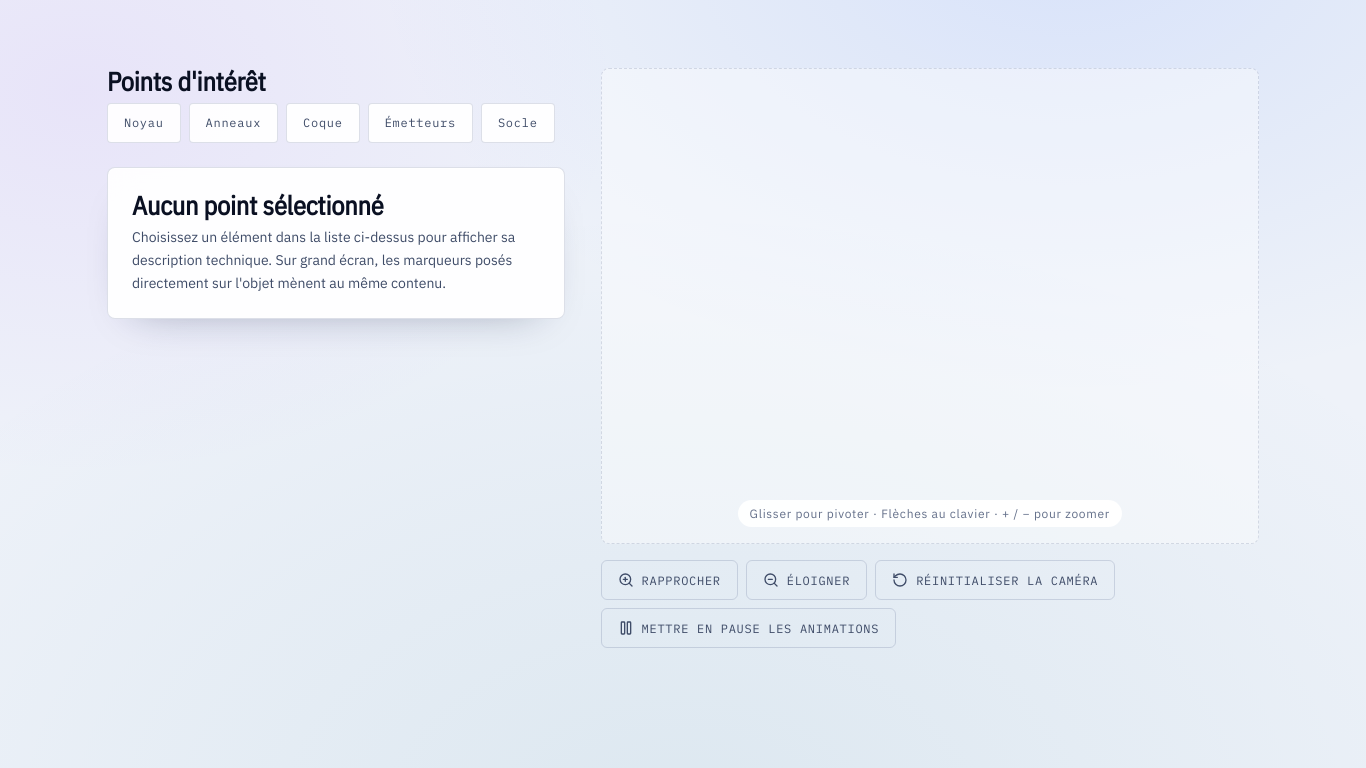
InteractiveSection › met les animations en pause et les reprend
(page scrolled)
Click the button with test id "toggle-animations" at x=748, y=628, box [600,608,896,648]
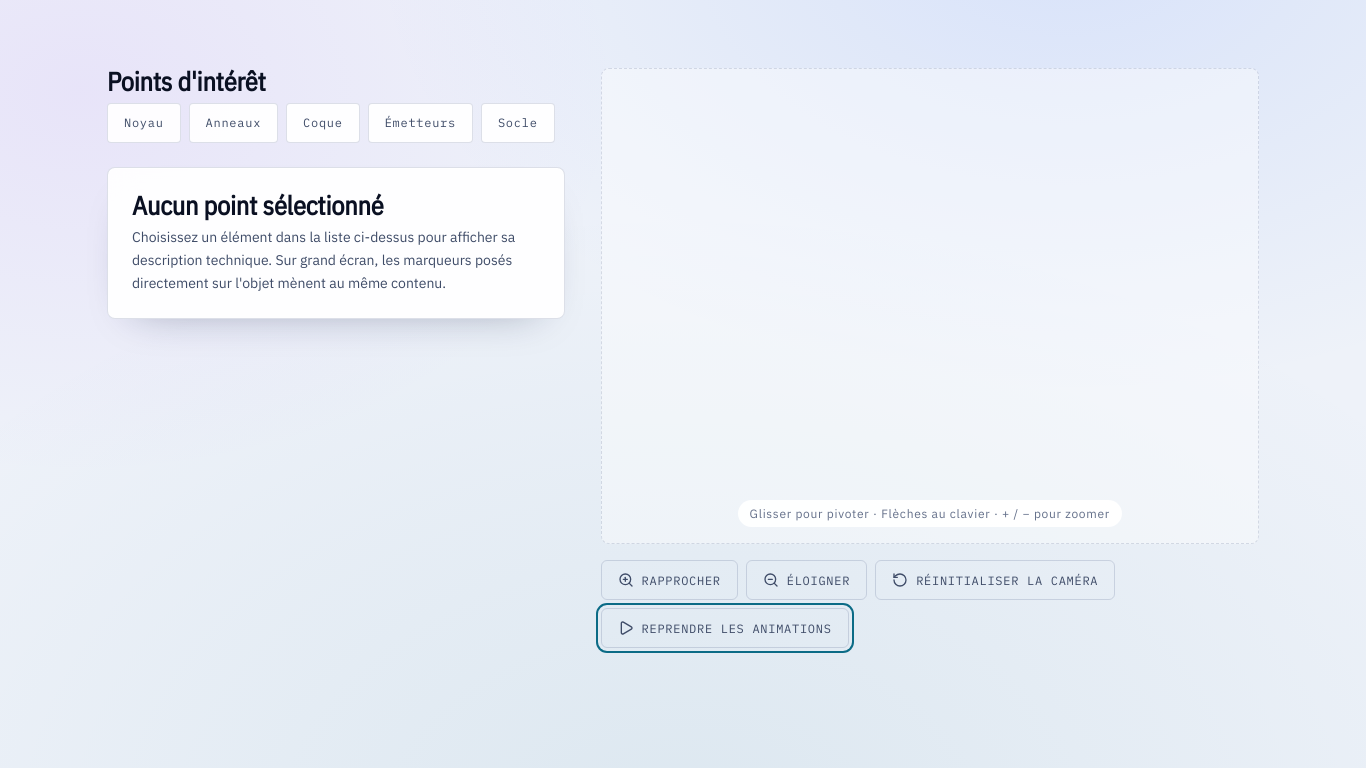
Now the button "Reprendre les animations" is shown, box [600,608,849,648]
